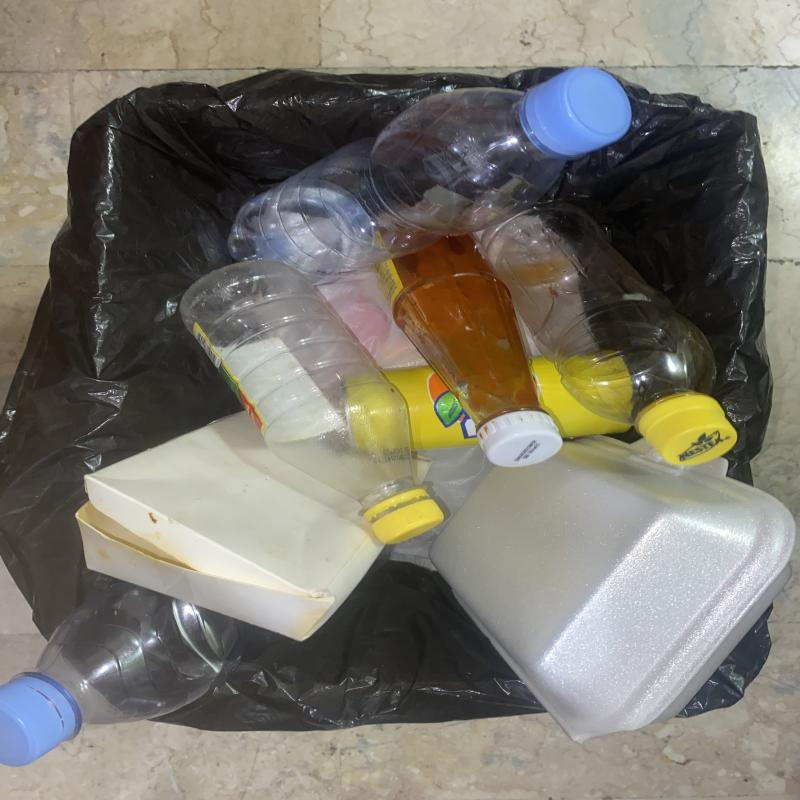cardboard: (74, 410, 385, 642)
glass bottle: (373, 232, 565, 467)
plastic bottle: (225, 64, 632, 287), (176, 259, 446, 547), (471, 203, 741, 466), (0, 583, 255, 767)
styrofoam containers: (433, 434, 799, 745)
